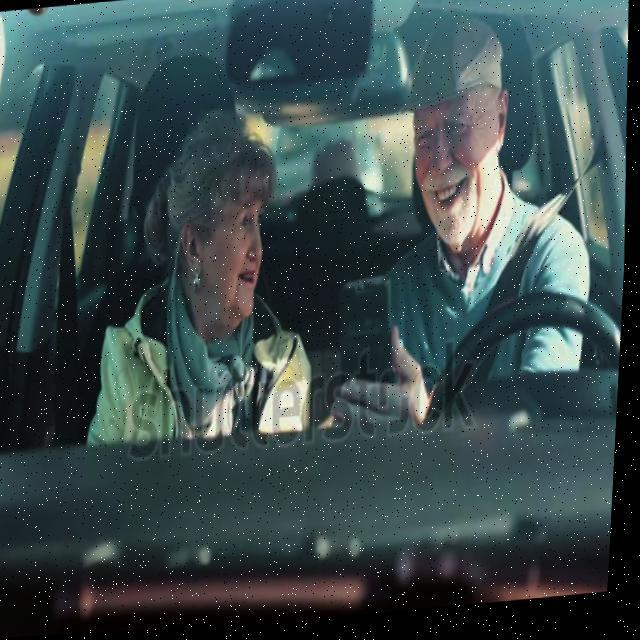PhoneCall: (334, 278, 405, 434)
